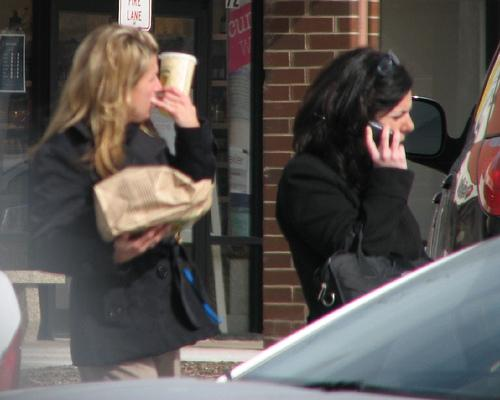person: (276, 43, 443, 326)
